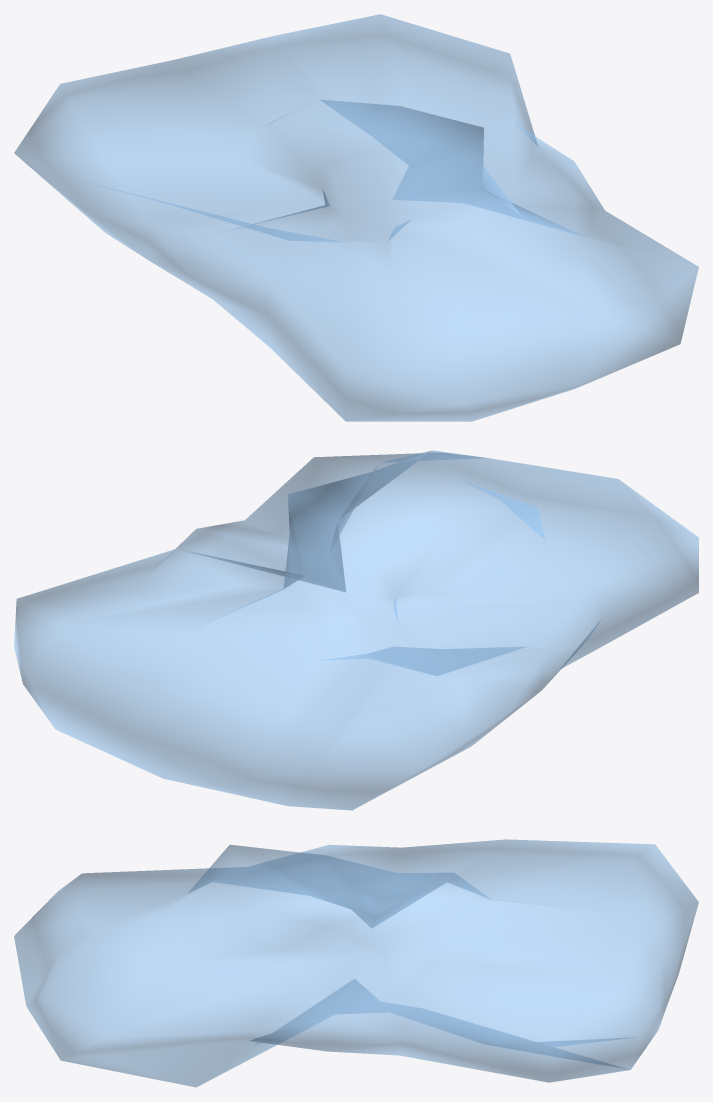
Rendered from tfabricator_shield.gltf.
3 views of the same model, one above another, from view 1: azimuth 30°, elevation 25°; view 2: azimuth 150°, elevation 25°; view 3: azimuth 270°, elevation 25° (orthographic). The views are drawn at different scales.
Parts seen in each view (by area): view 1: tfabricator.shield; view 2: tfabricator.shield; view 3: tfabricator.shield.
Boxes of the visible parts, bbox=[...] form: tfabricator.shield: bbox=[14, 14, 698, 421]; tfabricator.shield: bbox=[14, 450, 698, 810]; tfabricator.shield: bbox=[14, 839, 698, 1087].
Bounding box in the file's own units: 15.44 × 5.75 × 21.93.
